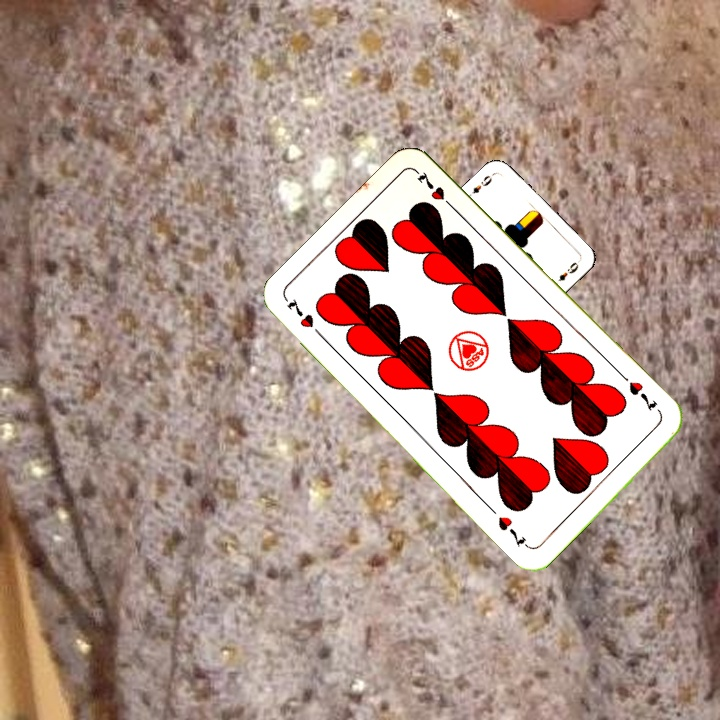E9: (464, 169, 497, 200)
H7: (282, 294, 328, 343), (624, 377, 661, 414)
